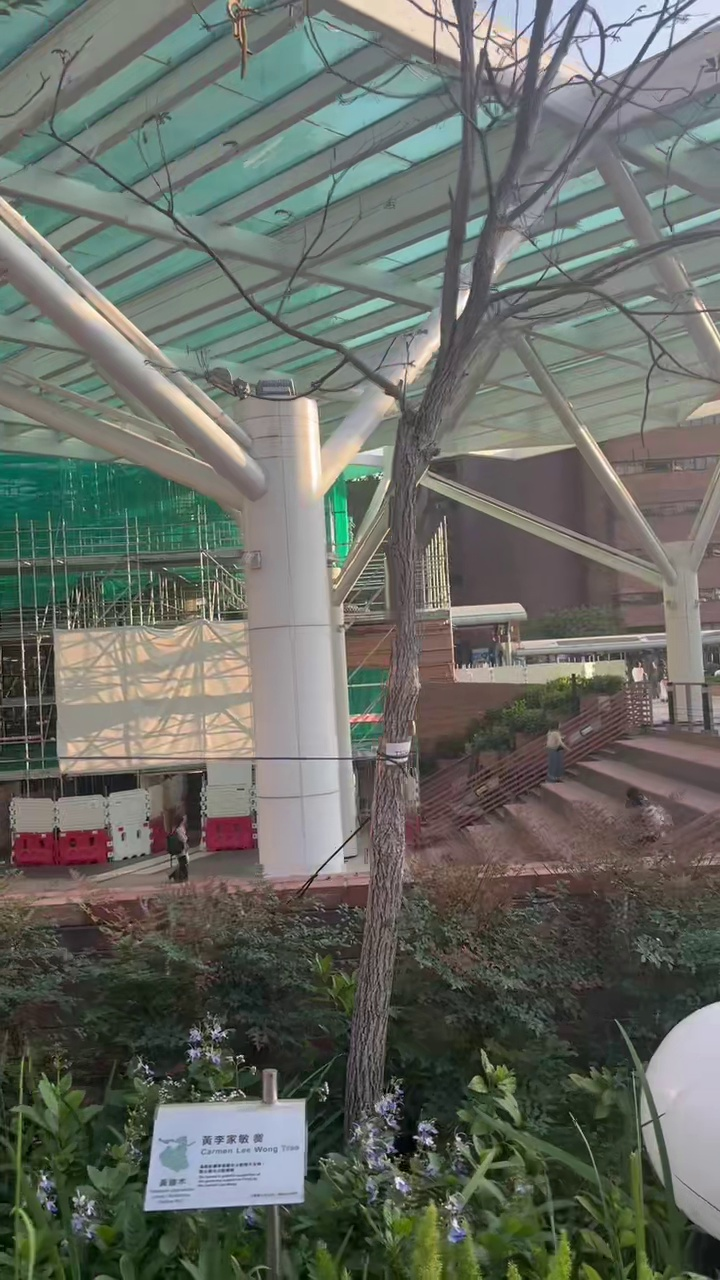Tabebuia chrysantha: (261, 0, 719, 1129)
